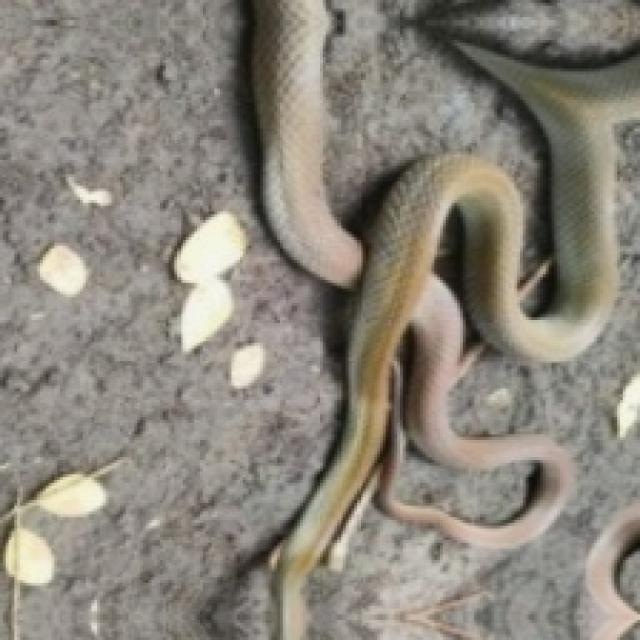reddish rat snake: (251, 0, 637, 637)
